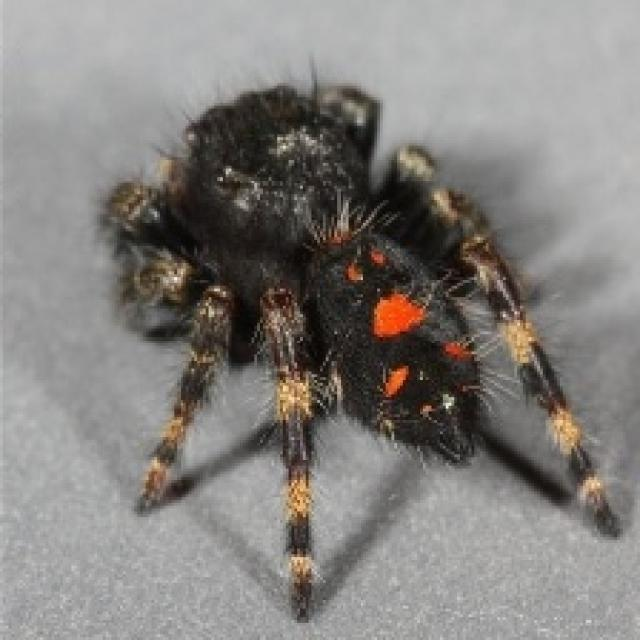Non venomous spider: (71, 43, 618, 616)
